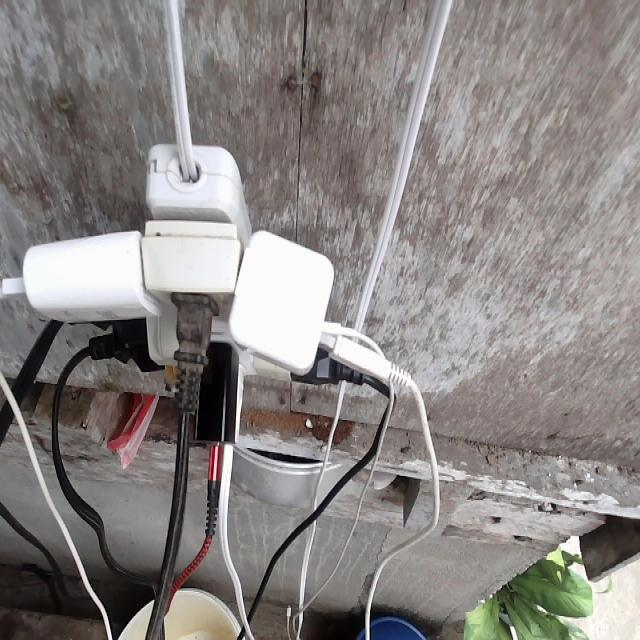-: (0, 141, 415, 511)
